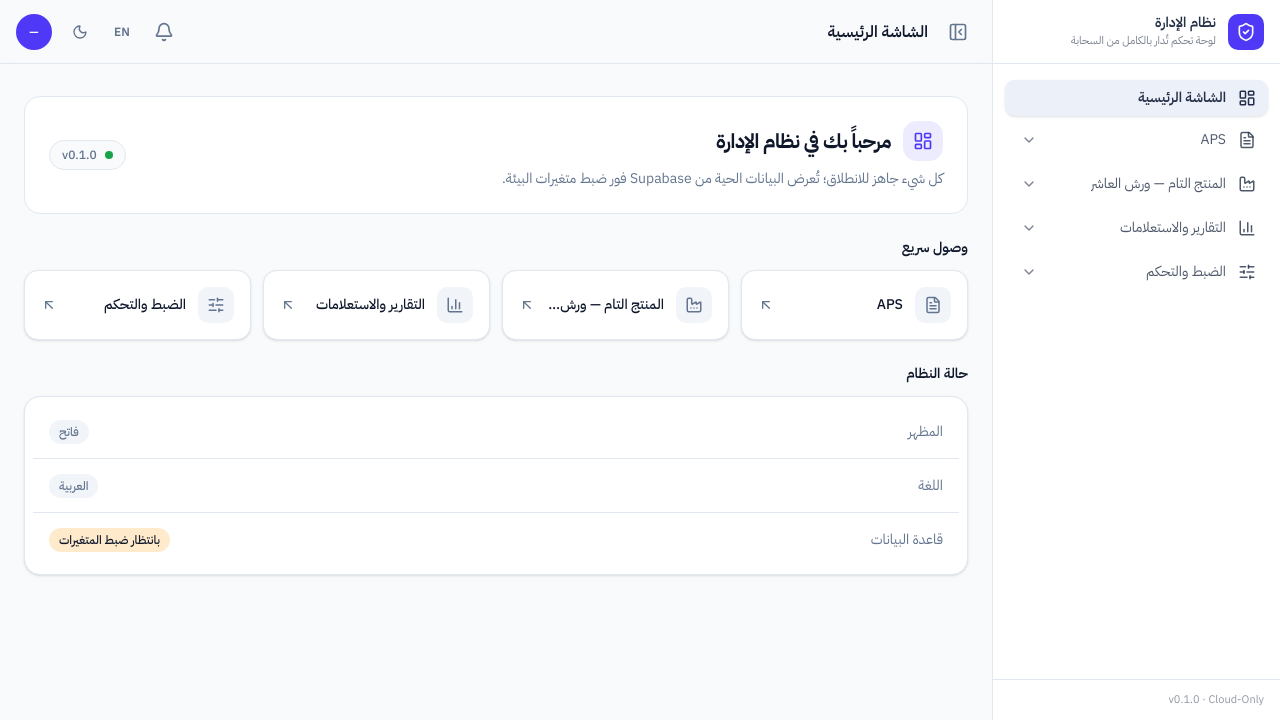
Scenario: DashboardLayout (responsive shell + tree navigation) › expands settings to system items, app items, and the final project-settings item
Step 1. Click the button "الضبط والتحكم" → {"x": 1154, "y": 272}, box [1053,262,1256,282]
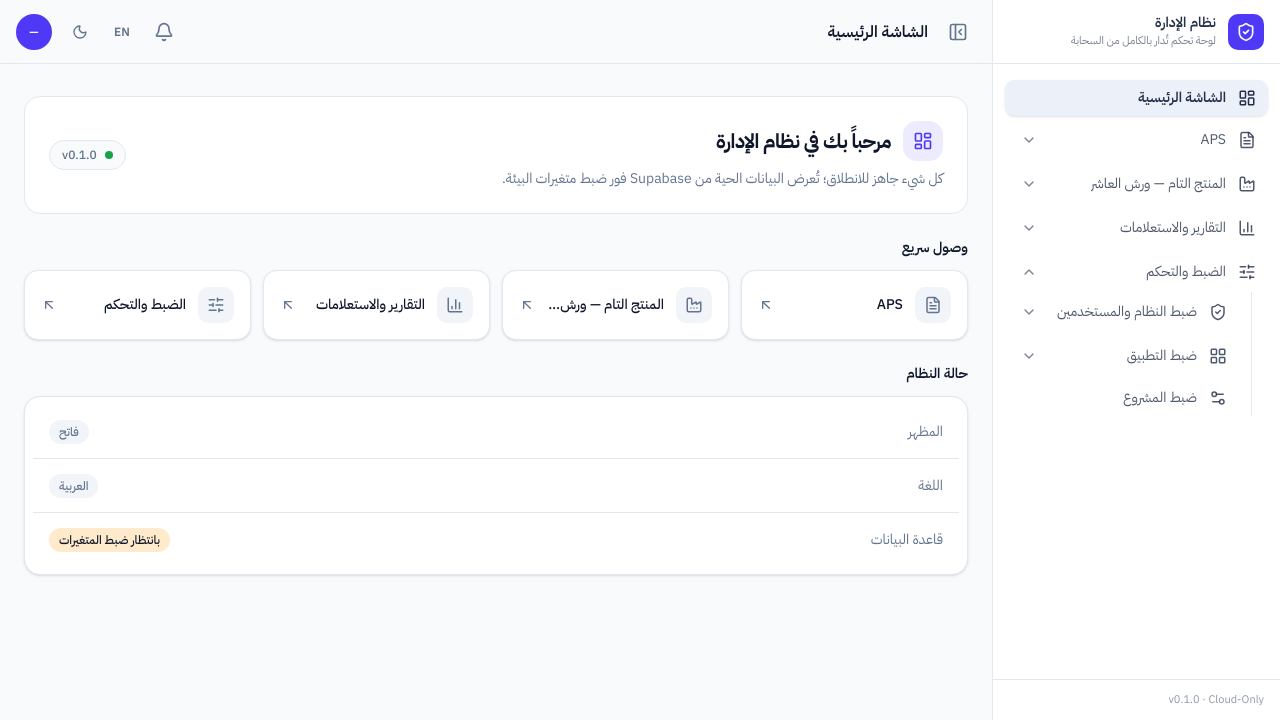
expect the button "ضبط النظام والمستخدمين" is shown: met
expect the button "ضبط التطبيق" is shown: met, box [1053,346,1227,366]
Step 2. Click the button "ضبط النظام والمستخدمين" → {"x": 1140, "y": 312}, box [1053,302,1227,322]
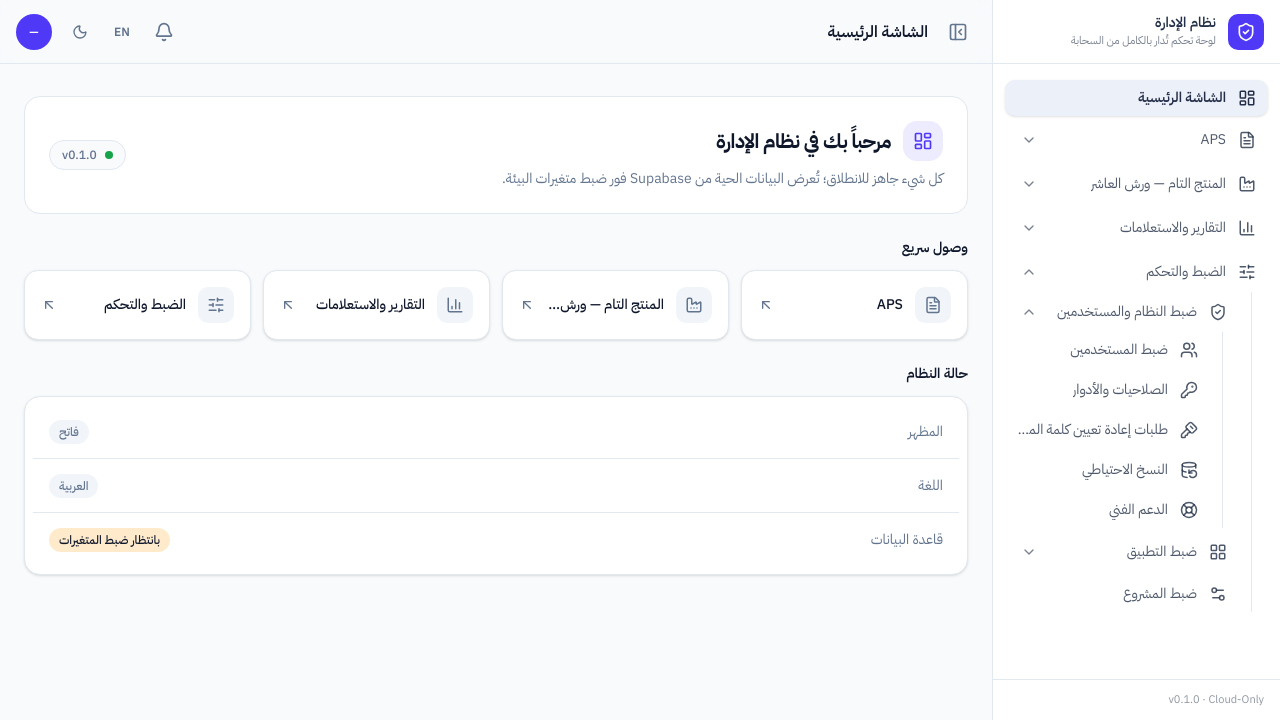
expect the link "ضبط المستخدمين" is shown: met, box [1070,339,1198,360]
expect the link "الصلاحيات والأدوار" is shown: met, box [1072,379,1198,400]
expect the link "النسخ الاحتياطي" is shown: met, box [1082,459,1198,480]
Step 3. Click the button "ضبط التطبيق" → {"x": 1140, "y": 552}, box [1053,542,1227,562]
(page scrolled)
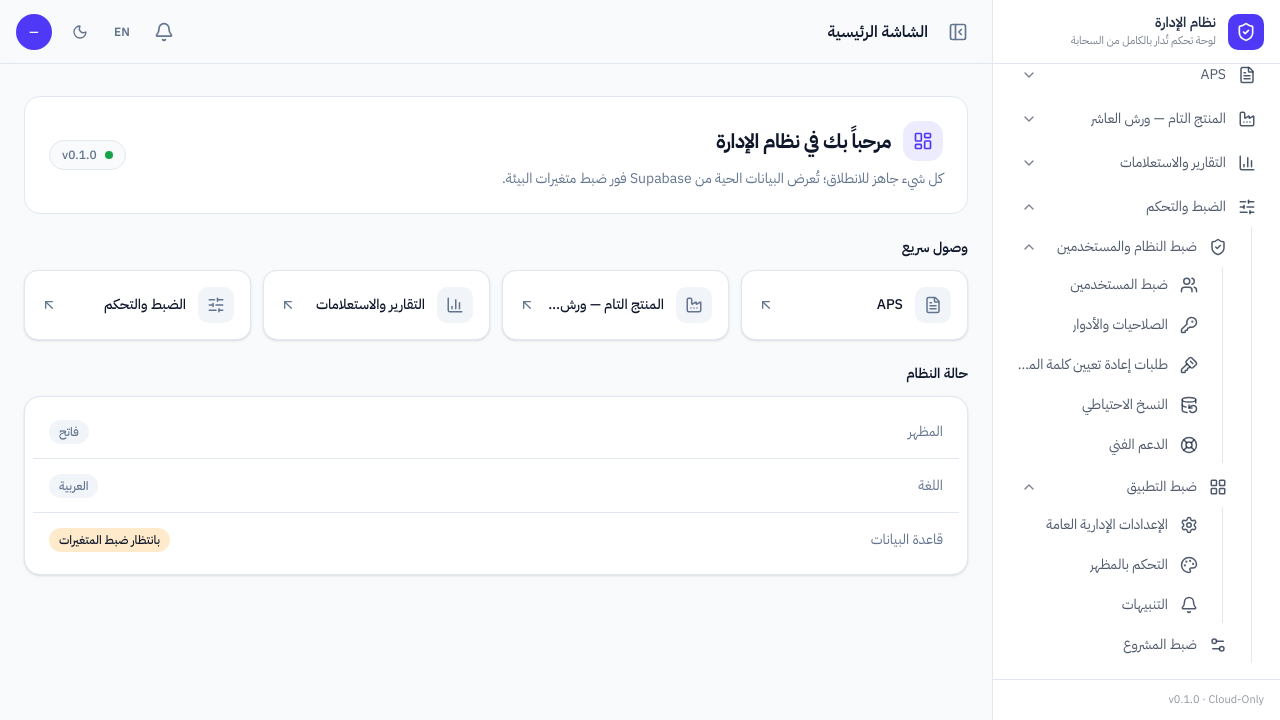
expect the link "الإعدادات الإدارية العامة" is shown: met, box [1046,514,1198,535]
expect the link "التحكم بالمظهر" is shown: met, box [1090,554,1198,575]
expect the link "التنبيهات" is shown: met, box [1122,594,1198,615]
